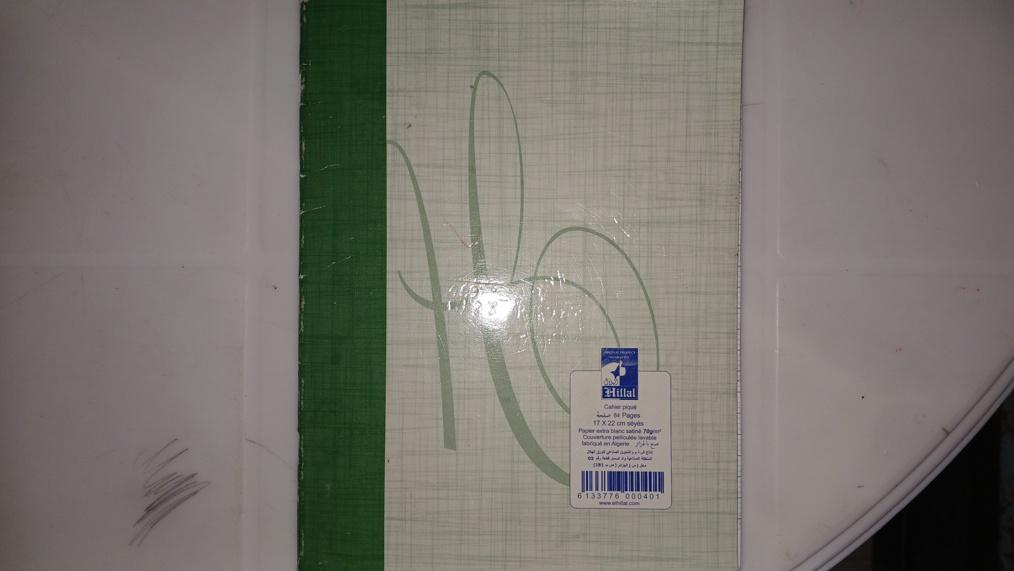notebook: (301, 0, 747, 571)
